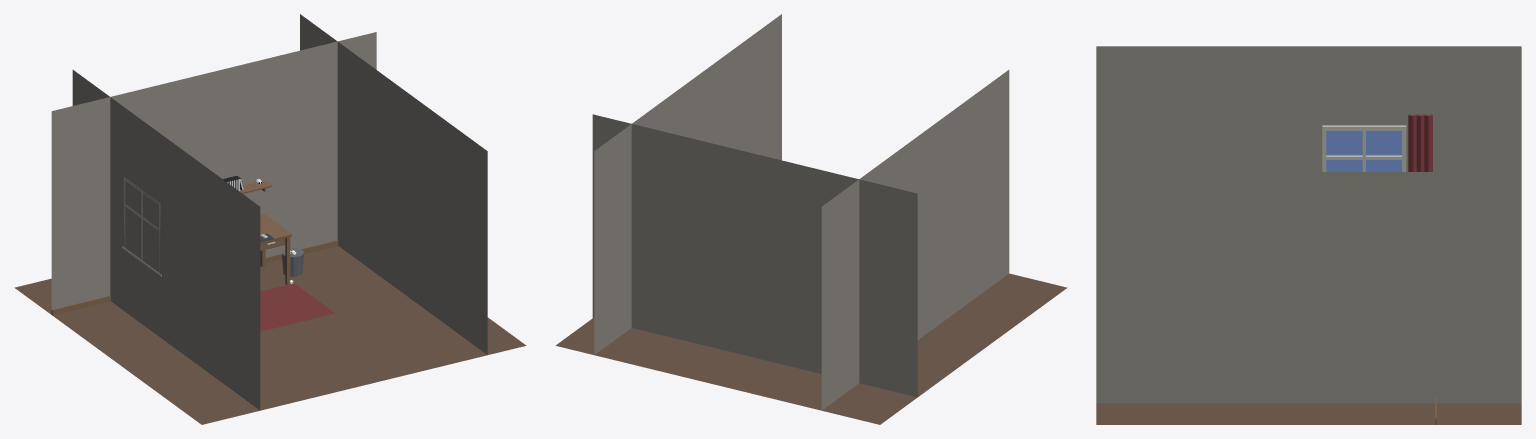
File: room.glb
3 renders of one model, left to right at view 1: azimuth 30°, elevation 25°; view 2: azimuth 150°, elevation 25°; view 3: azimuth 270°, elevation 25°, orthographic. The views are drawn at different scales.
Parts seen in each view (by area): view 1: wall_back, wall_right, wall_left, floor, rug, skirting, desk_top; view 2: wall_back, wall_left, wall_right, floor; view 3: wall_right, wall_left, floor, window_glass, window_frame0.
Boxes of the visible parts, x1,y1,x2,y2 form: wall_back: (51, 32, 376, 309); wall_right: (300, 14, 487, 354); wall_left: (72, 70, 260, 410); floor: (14, 246, 526, 424); rug: (260, 283, 335, 331); skirting: (51, 240, 338, 315); desk_top: (260, 213, 291, 243); wall_back: (592, 114, 917, 397); wall_left: (821, 70, 1009, 410); wall_right: (594, 14, 781, 354); floor: (555, 273, 1067, 424); wall_right: (1096, 172, 1521, 403); wall_left: (1096, 46, 1521, 171); floor: (1096, 403, 1521, 424); window_glass: (1326, 131, 1401, 171); window_frame0: (1323, 125, 1404, 130).
Size of the model in its own units: 5 by 3.01 by 5.
